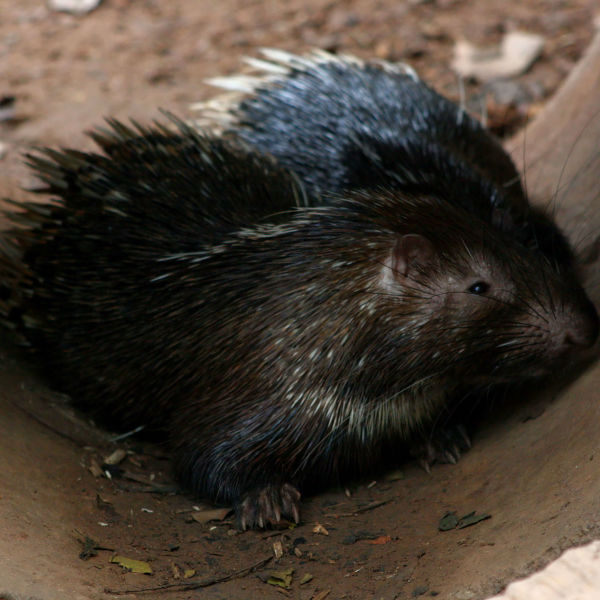porcupine: (5, 122, 593, 539)
